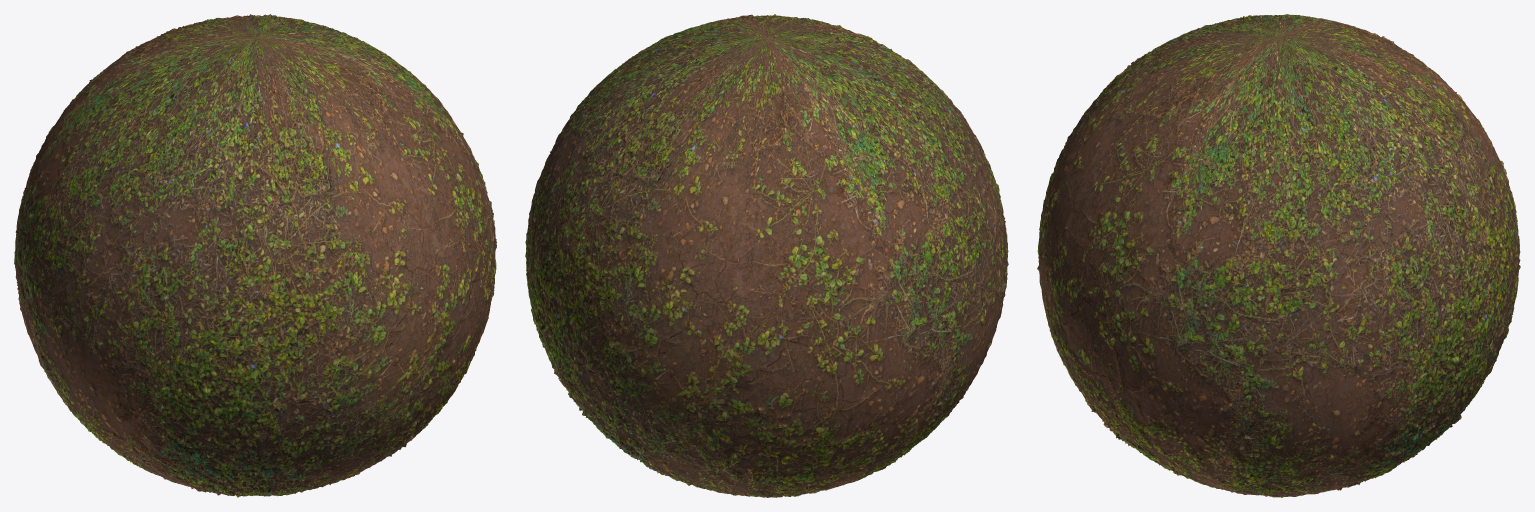
The model's file is brown_mud_leaves_01_4k.gltf.
3 renders of one model, left to right at view 1: azimuth 30°, elevation 25°; view 2: azimuth 150°, elevation 25°; view 3: azimuth 270°, elevation 25°, orthographic.
Visible parts, largest first — view 1: sphere_gltf; view 2: sphere_gltf; view 3: sphere_gltf.
Part boxes in pixels (box(x1,y1,x2,y2)): sphere_gltf: box(14, 14, 496, 497); sphere_gltf: box(525, 14, 1008, 497); sphere_gltf: box(1037, 14, 1520, 497).
Size of the model in its own units: 1.29 by 1.29 by 1.3.
1 material, 1 textured.
